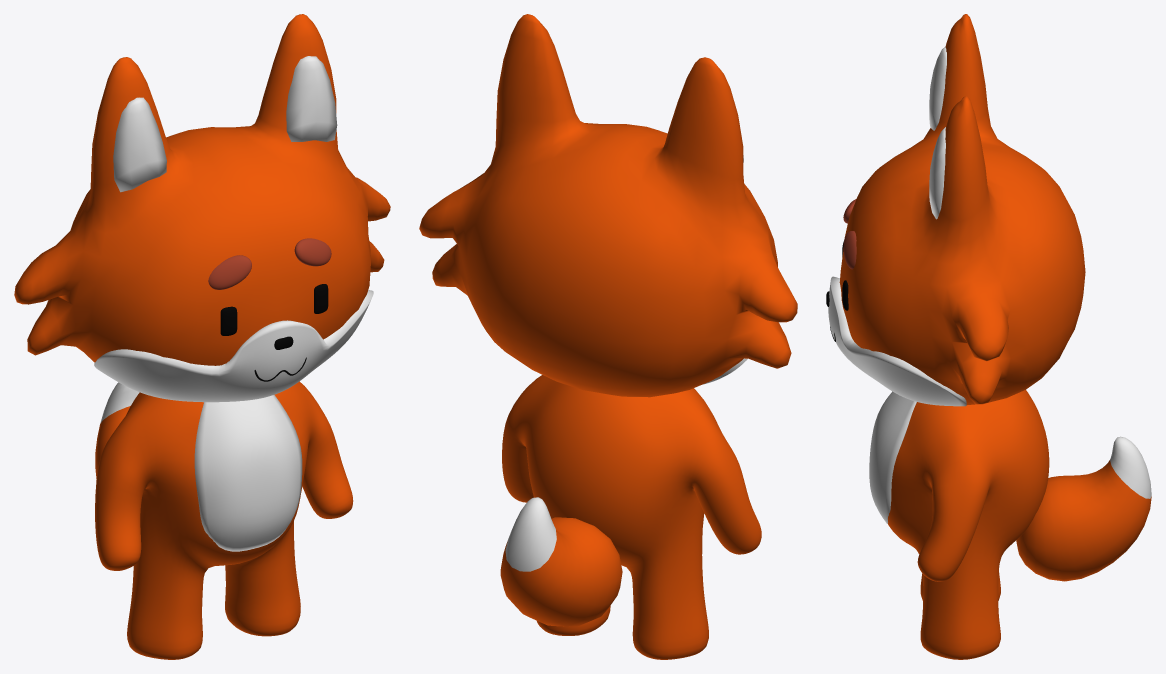
The model's file is Fox.fbx.
The picture shows the model from 3 angles, left to right: view 1: azimuth 30°, elevation 25°; view 2: azimuth 150°, elevation 25°; view 3: azimuth 270°, elevation 25°; orthographic projection. The views are drawn at different scales.
Visible parts, largest first — view 1: Cube, Cube.001, Cube.004, Cube.002, Cube.003, Cube.006, Cube.008, Cube.005; view 2: Cube, Cube.001, Cube.008; view 3: Cube, Cube.001, Cube.008, Cube.002, Cube.004, Cube.003, Cube.006.
Boxes of the visible parts, box(x1,y1,x2,y2) form: Cube: box(14, 14, 390, 365); Cube.001: box(95, 381, 353, 659); Cube.004: box(194, 395, 302, 551); Cube.002: box(94, 290, 373, 402); Cube.003: box(113, 56, 337, 192); Cube.006: box(208, 238, 331, 289); Cube.008: box(95, 382, 139, 478); Cube.005: box(220, 284, 328, 335); Cube: box(419, 14, 797, 397); Cube.001: box(502, 375, 761, 659); Cube.008: box(500, 497, 622, 626); Cube: box(839, 14, 1085, 404); Cube.001: box(888, 390, 1049, 659); Cube.008: box(1016, 436, 1151, 581); Cube.002: box(828, 276, 966, 406); Cube.004: box(869, 391, 916, 523); Cube.003: box(929, 46, 946, 219); Cube.006: box(843, 199, 856, 269).
Bounding box in the file's own units: 239 × 369 × 191.
